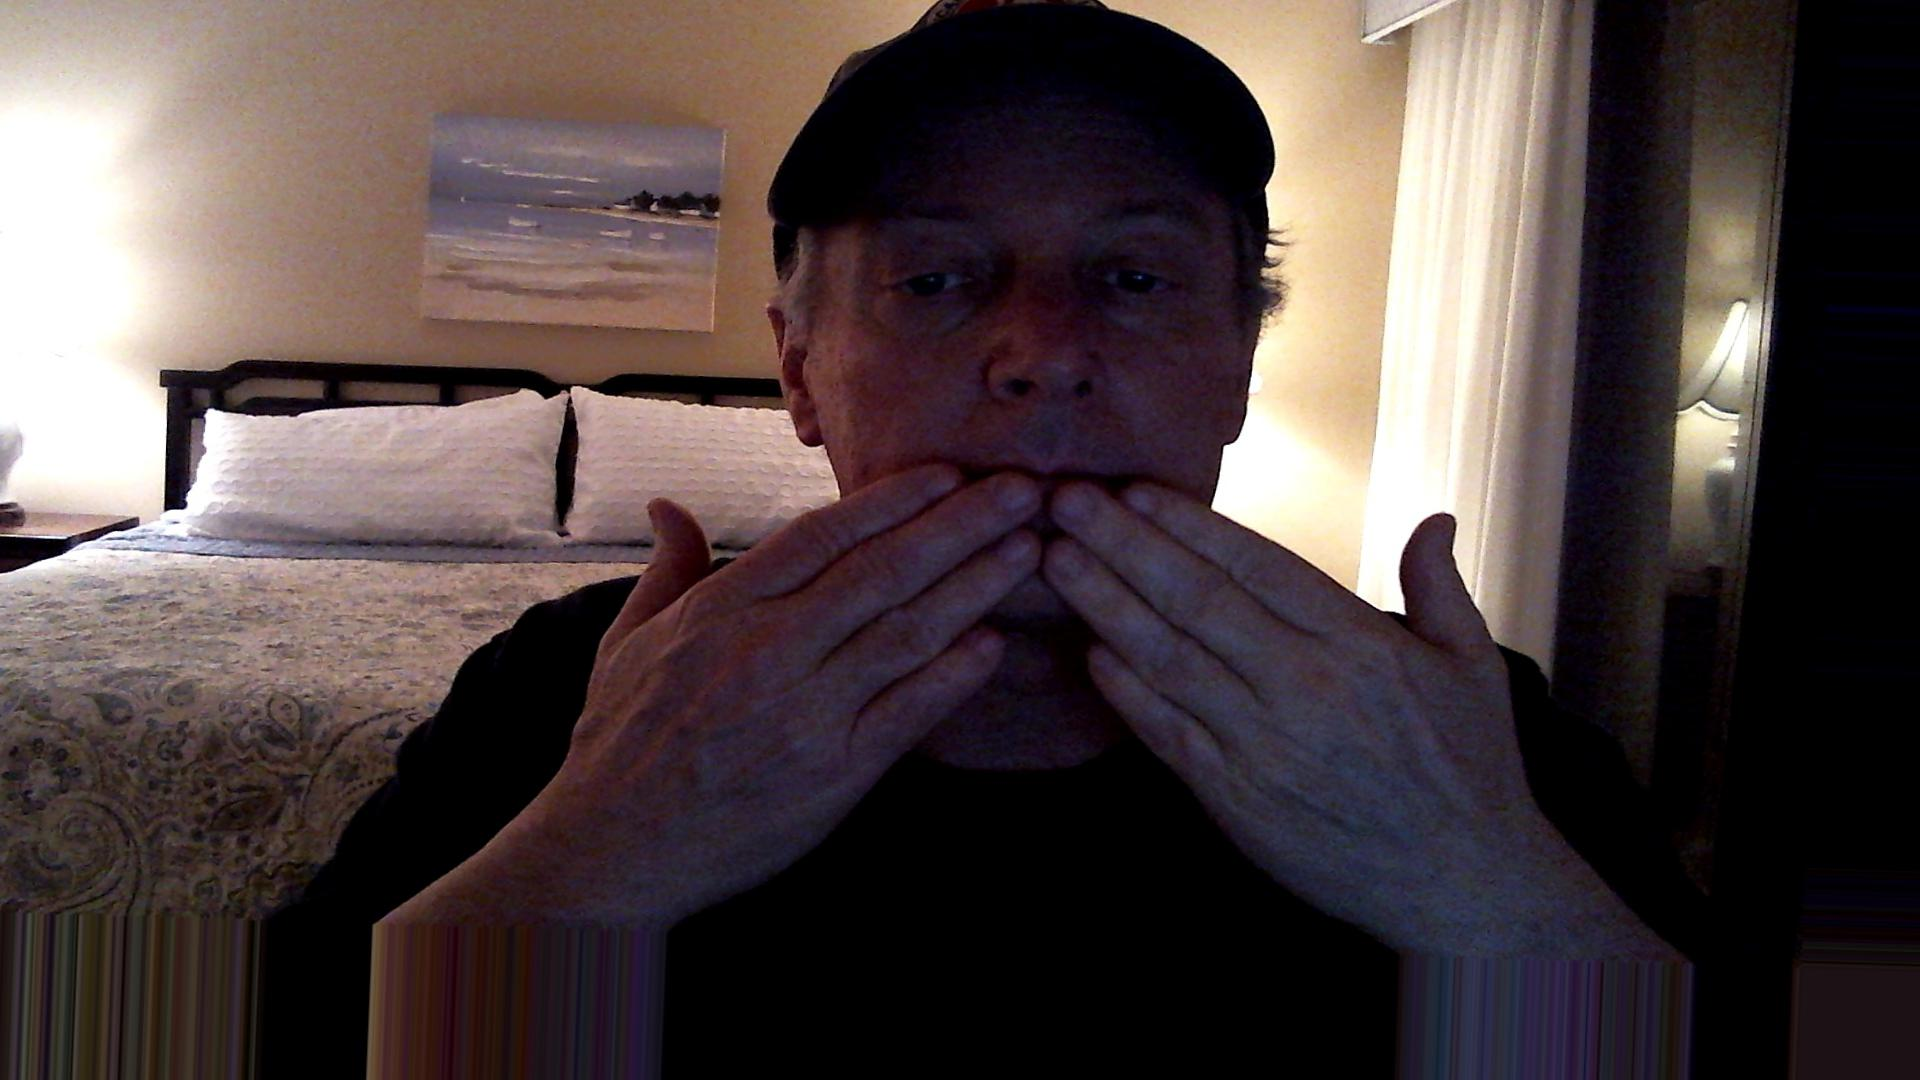Thank You: (564, 444, 1539, 890)
